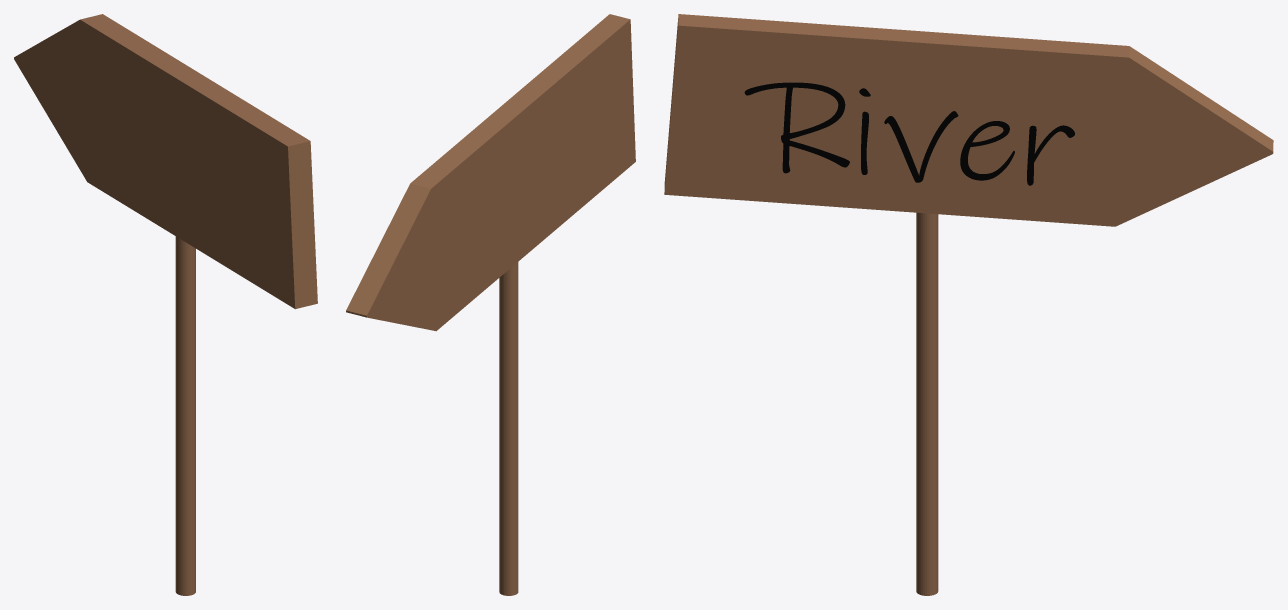
File: riversign.fbx
3 views of the same model, side by side, from view 1: azimuth 30°, elevation 25°; view 2: azimuth 150°, elevation 25°; view 3: azimuth 270°, elevation 25° (orthographic). The views are drawn at different scales.
Parts seen in each view (by area): view 1: Cube, Cylinder; view 2: Cube, Cylinder; view 3: Cube, Cylinder, Text.
Boxes of the visible parts, left/top/right/bottom form: Cube: left=14, top=14, right=317, bottom=309; Cylinder: left=175, top=236, right=195, bottom=595; Cube: left=346, top=14, right=635, bottom=331; Cylinder: left=499, top=262, right=518, bottom=595; Cube: left=664, top=14, right=1273, bottom=226; Cylinder: left=916, top=212, right=938, bottom=595; Text: left=744, top=82, right=1074, bottom=185.
Size of the model in its own units: 20.11 by 317 by 307.
